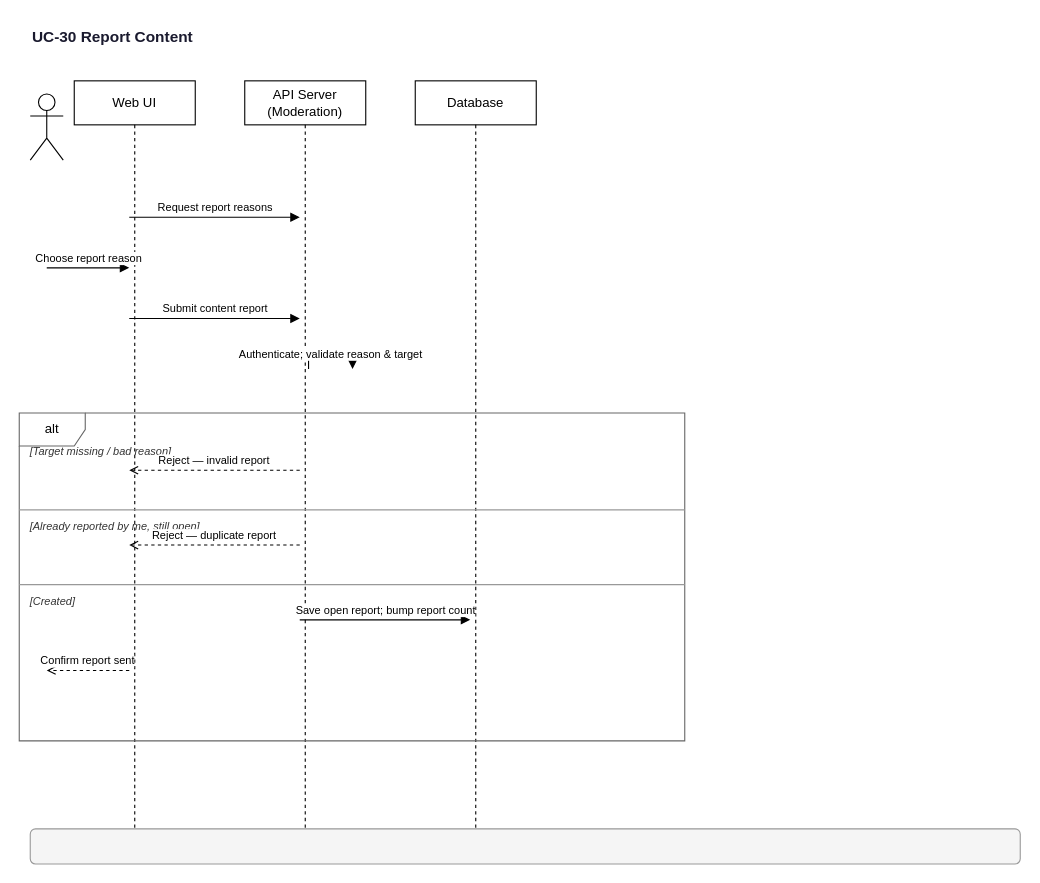
This 1040x883 diagram has some shape labels left out. The shapes that lost their labels are listed below. From the top down, each one's centre as x and y in pixels, then its label:
the point at 46,126: Student
the point at 524,846: Cosmo Learn — UC-30 Report Content
